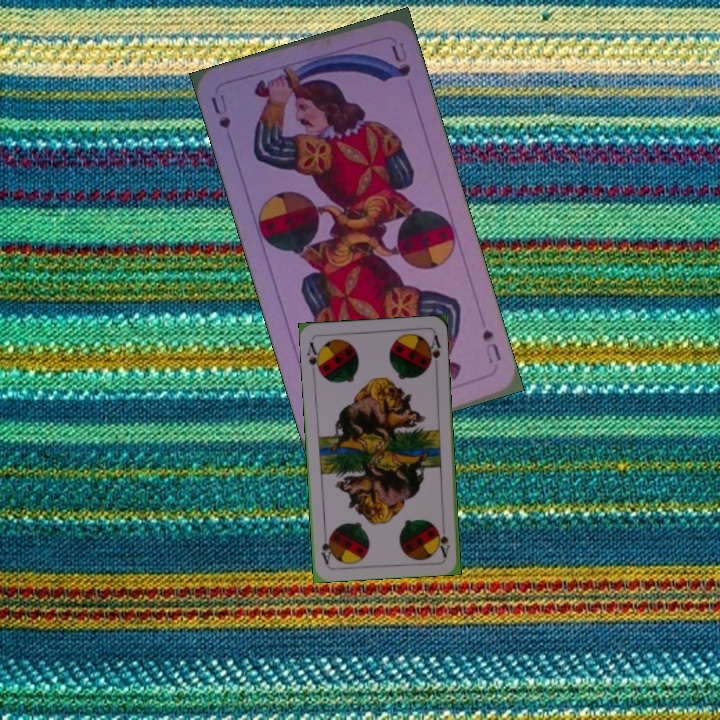SA: (303, 338, 324, 378), (434, 525, 452, 559)
SU: (478, 325, 504, 367), (207, 90, 233, 131)
